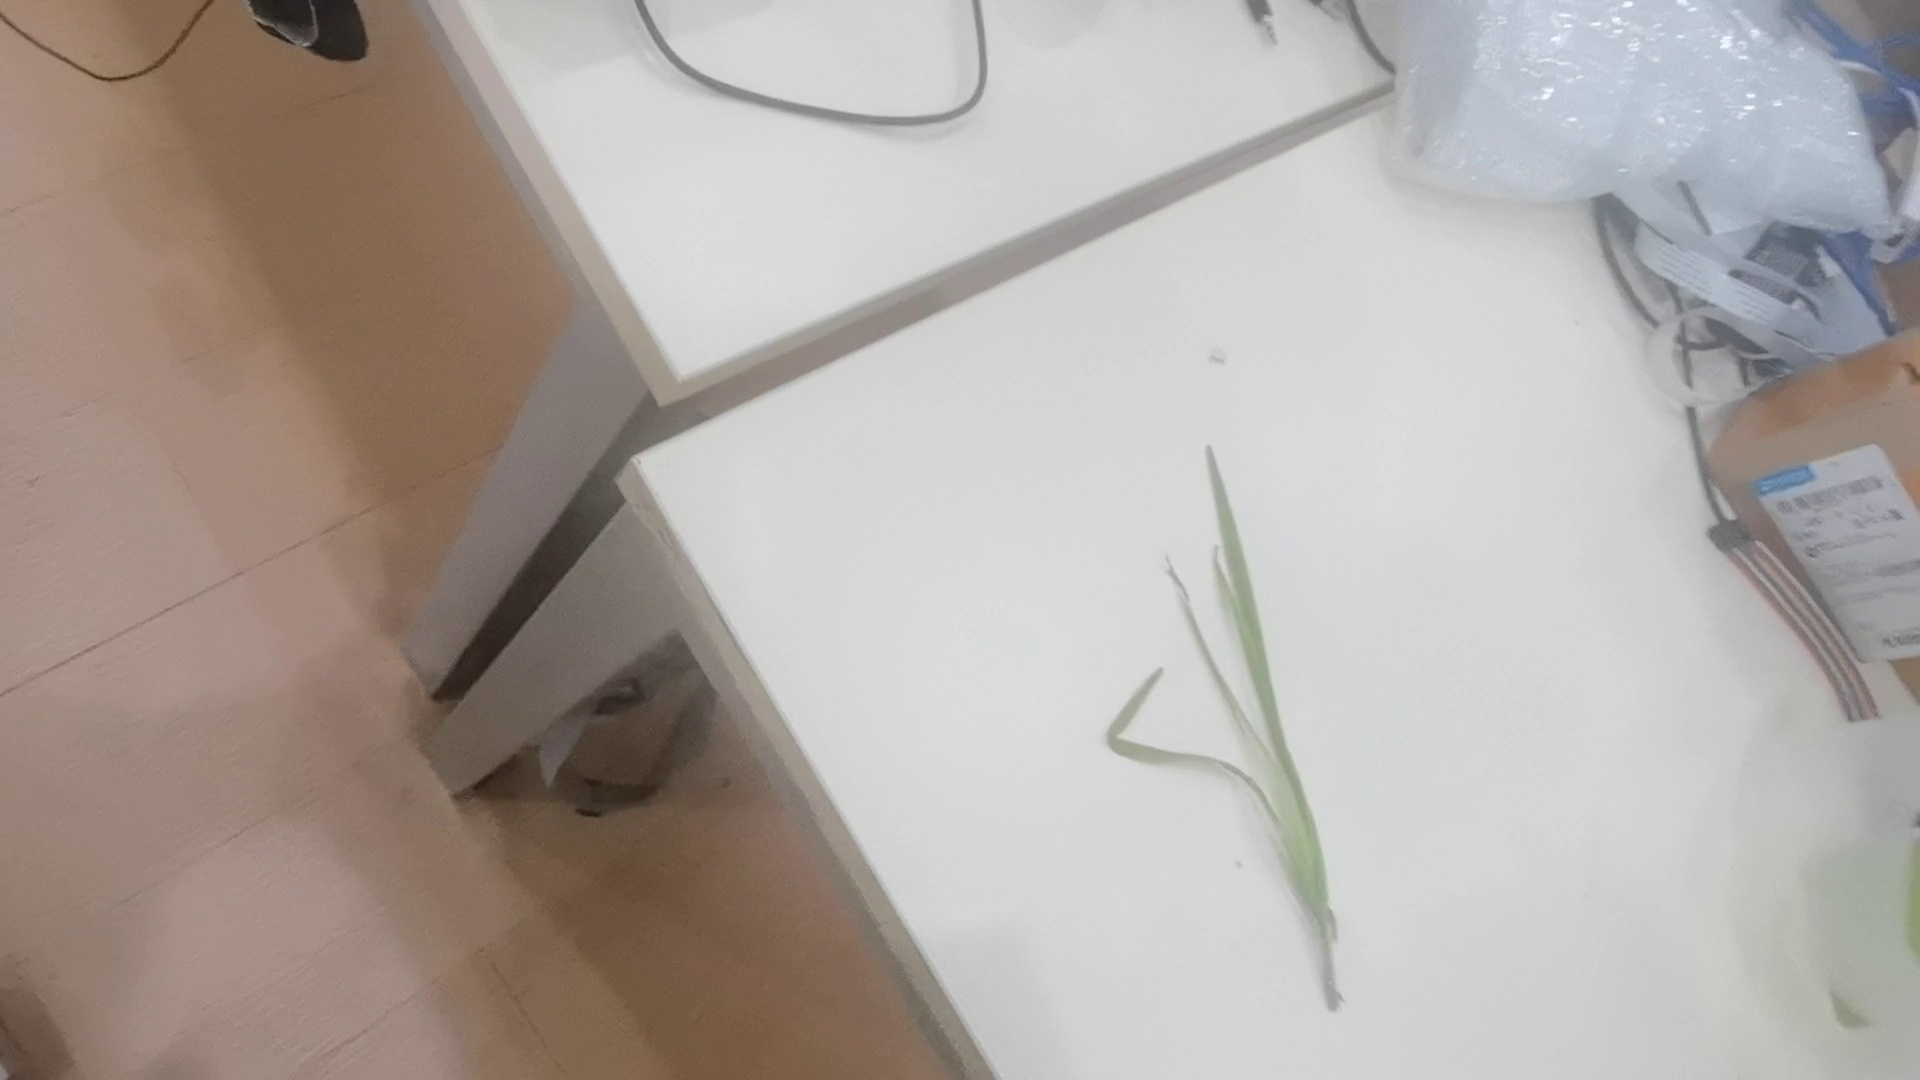chives: (1095, 444, 1346, 1011)
